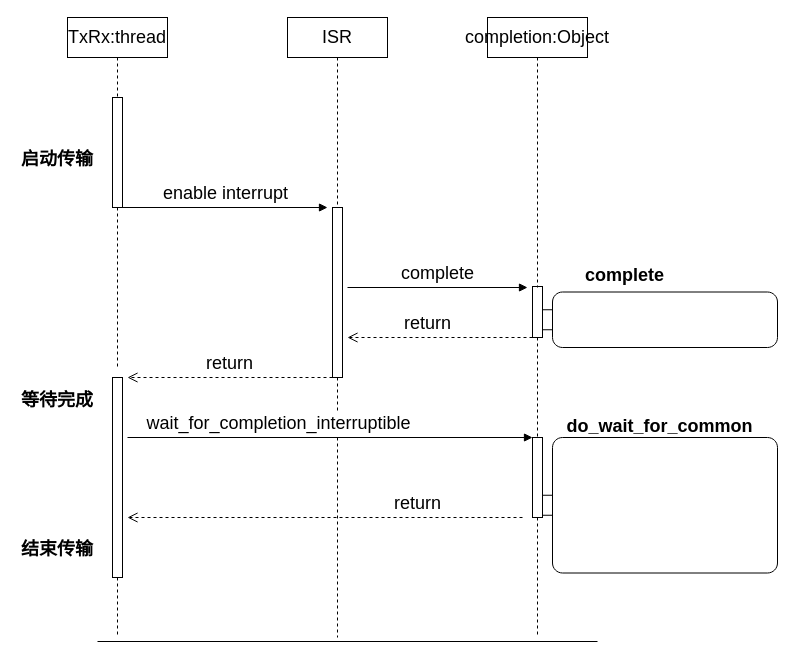
This 795x663 diagram has some shape labels left out. The shapes that lost their labels are listed below. From the top down, each one's centre as x and y in pixels, then its label:
At [660,319]: "x->done++; __wake_up_locked();".
At [660,504]: "if (!x->done) { 创建等待队列 挂起等待线程 } x->done--;".
